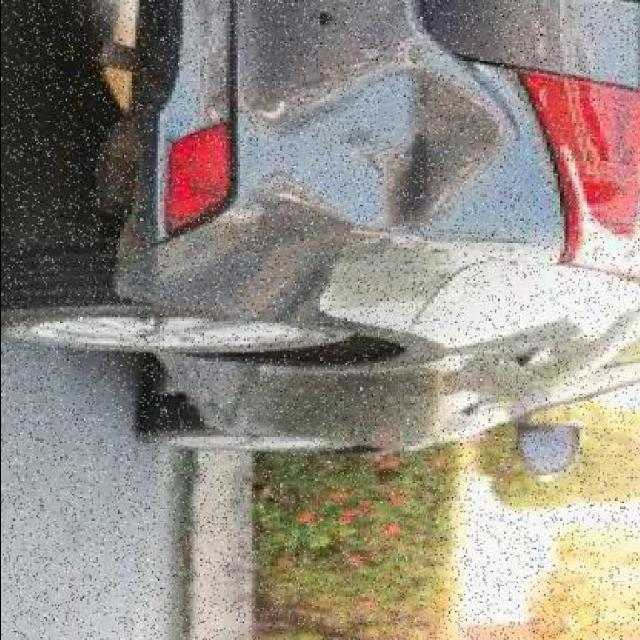rear-bumper-dent: (91, 0, 528, 326)
